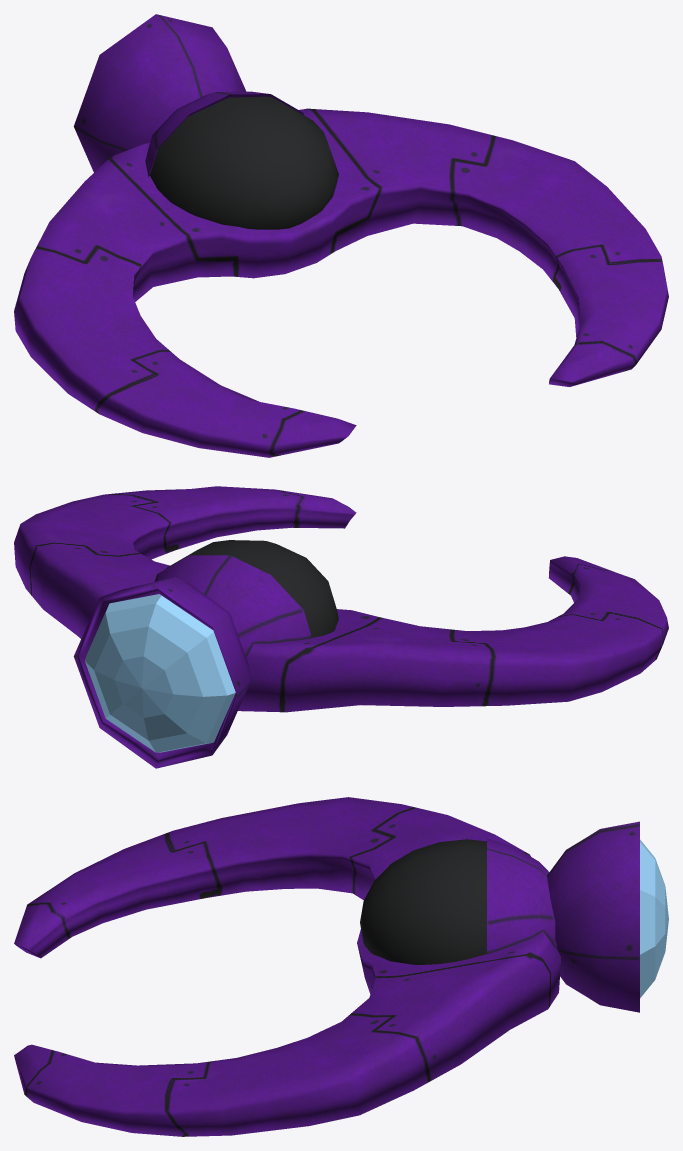
File: ship3.fbx
3 views of the same model, one above another, from view 1: azimuth 30°, elevation 25°; view 2: azimuth 150°, elevation 25°; view 3: azimuth 270°, elevation 25° (orthographic). The views are drawn at different scales.
Visible parts, largest first — view 1: shipMesh3; view 2: shipMesh3; view 3: shipMesh3.
Boxes of the visible parts, x1=… form: shipMesh3: x1=14, y1=14, x2=668, y2=457; shipMesh3: x1=14, y1=486, x2=668, y2=768; shipMesh3: x1=14, y1=797, x2=668, y2=1136.
Bounding box in the file's own units: 19.35 × 5.89 × 18.39.
Materials: 4 (4 with a texture image).
